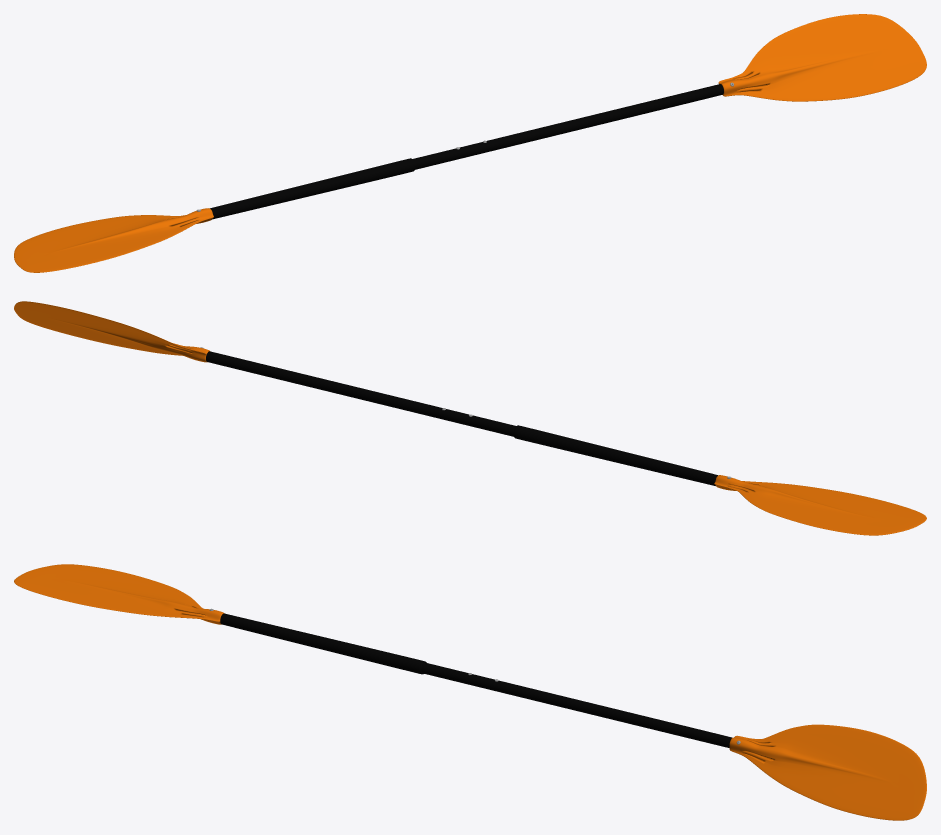
The model's file is paddle.fbx.
3 renders of one model, top to bottom at view 1: azimuth 30°, elevation 25°; view 2: azimuth 150°, elevation 25°; view 3: azimuth 330°, elevation 25°, orthographic.
Visible parts, largest first — view 1: Paddle; view 2: Paddle; view 3: Paddle.
Part boxes in pixels (<box>): Paddle: <box>14,14,926,272</box>; Paddle: <box>14,301,926,535</box>; Paddle: <box>14,564,926,820</box>.
Size of the model in its own units: 110 by 6.54 by 9.24.
